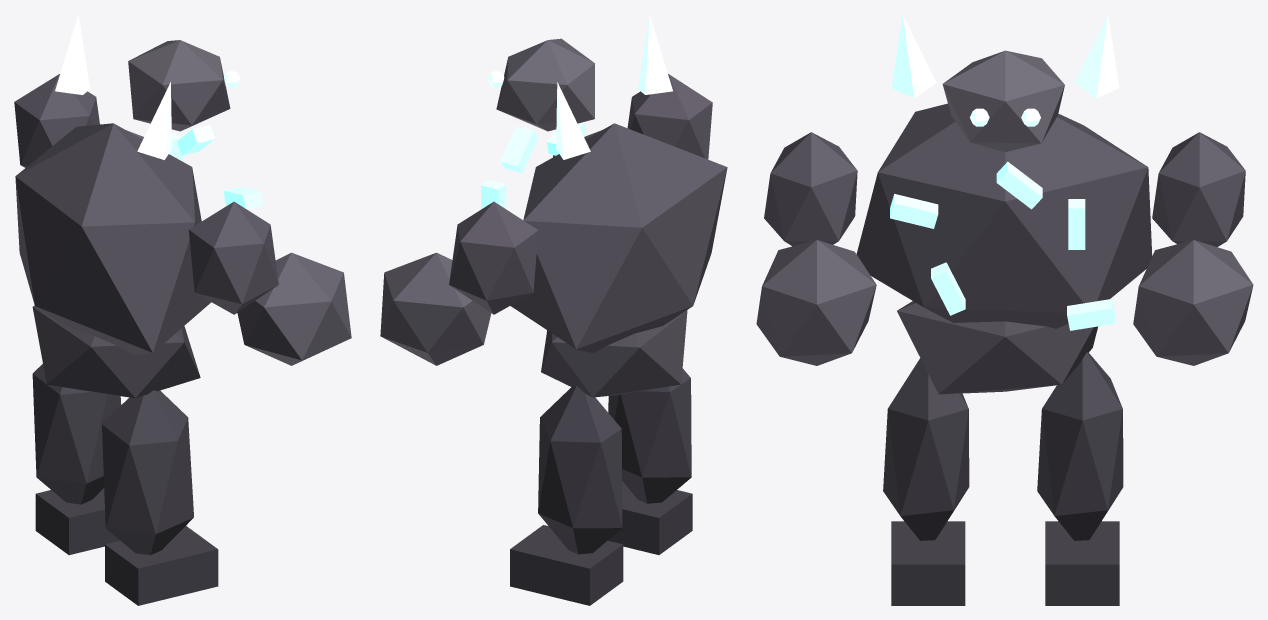
Rendered from golem.glb.
3 views of the same model, side by side, from view 1: azimuth 30°, elevation 25°; view 2: azimuth 150°, elevation 25°; view 3: azimuth 270°, elevation 25° (orthographic). The views are drawn at different scales.
Parts seen in each view (by area): view 1: body, leg_r, arm_r, leg_l, head, arm_l; view 2: body, leg_l, arm_l, leg_r, head, arm_r; view 3: body, arm_r, arm_l, leg_l, leg_r, head.
Part boxes in pixels (x1,y1,x2,y2): body: (15,14,263,397); leg_r: (102,390,218,605); arm_r: (188,201,351,365); leg_l: (32,364,121,555); head: (128,40,240,131); arm_l: (14,74,143,167); body: (481,15,727,397); leg_l: (510,385,623,605); arm_l: (380,201,538,365); leg_r: (608,368,692,554); head: (487,38,594,131); arm_r: (553,74,712,159); body: (856,14,1152,394); arm_r: (756,132,876,365); arm_l: (1133,132,1253,365); leg_l: (1037,352,1123,605); leg_r: (883,358,969,605); head: (942,50,1064,152).
Size of the model in its own units: 1.01 by 2.2 by 1.74.
